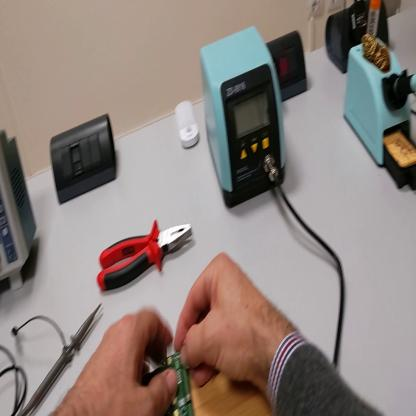hand: (175, 253, 279, 392), (60, 302, 178, 416)
low voltage board: (145, 349, 199, 415)
oscilloscope: (1, 120, 39, 291)
oscilloscope probe tip: (19, 302, 102, 415)
pliers: (99, 214, 194, 295)
socket: (327, 1, 391, 73), (268, 31, 311, 102)
welder base: (345, 3, 416, 191)
welder probe tip: (396, 75, 415, 103)
welder station: (202, 26, 288, 211)
working area: (189, 368, 273, 414)
